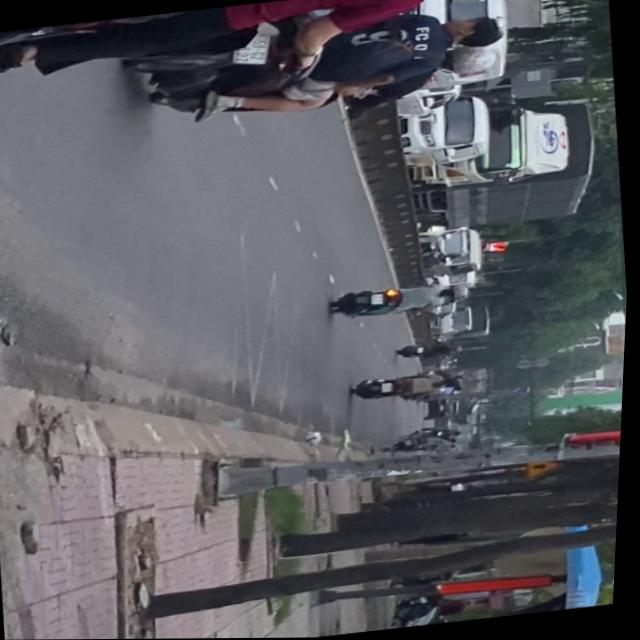helmet: (437, 42, 500, 77)
licenseplate: (117, 0, 516, 134), (0, 0, 537, 95)
motorcyclist: (444, 12, 507, 51)
